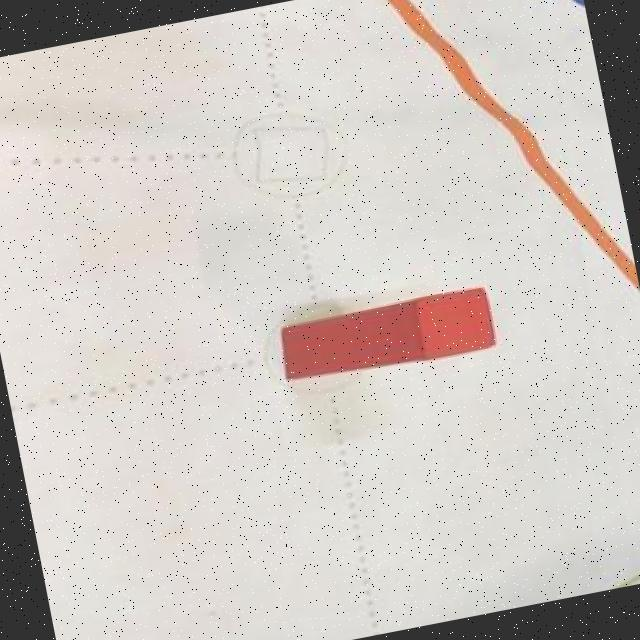redbox: (276, 282, 498, 388)
